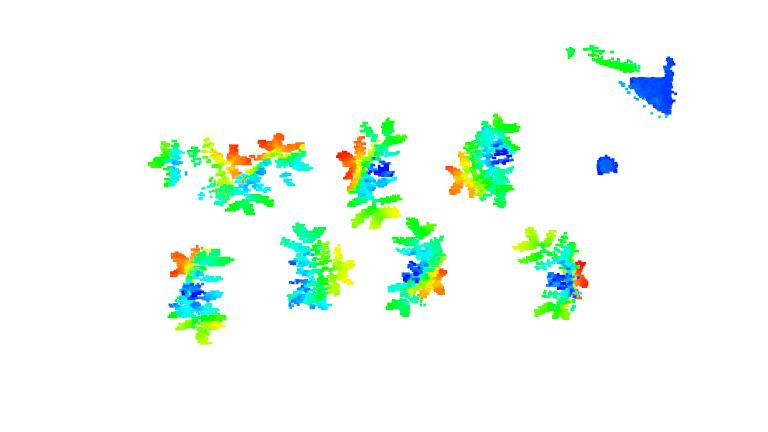chickpea: (143, 128, 253, 204), (339, 117, 411, 232), (445, 109, 522, 211), (162, 244, 234, 348), (278, 220, 355, 314), (515, 226, 590, 322), (385, 217, 449, 318), (240, 131, 314, 215)
